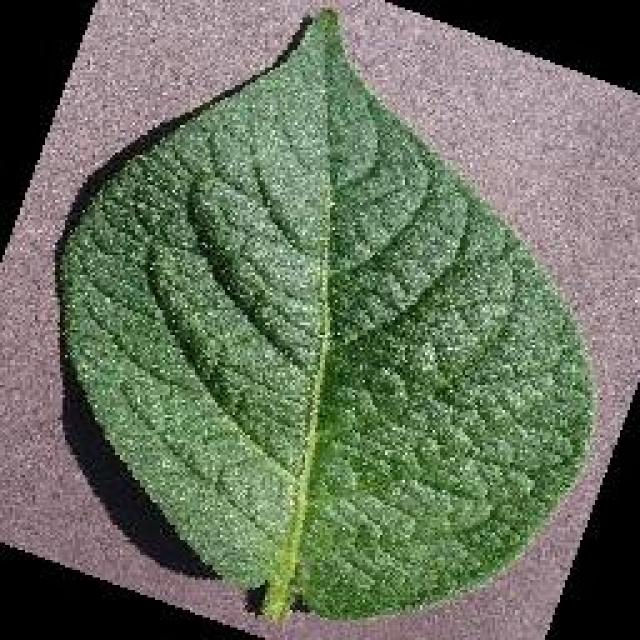Potato___healthy: (53, 4, 599, 632)
